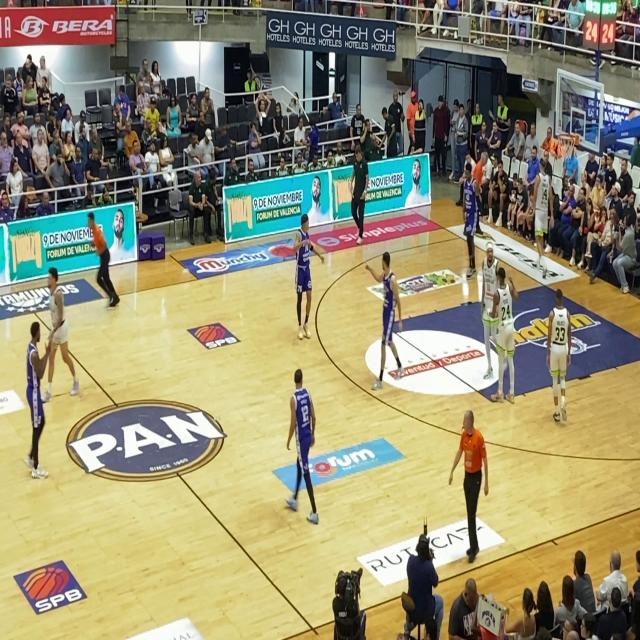referee: (448, 402, 496, 567)
team1: (482, 254, 524, 433)
team2: (12, 306, 52, 459), (279, 362, 316, 527), (367, 242, 401, 386), (289, 204, 321, 328), (458, 149, 484, 261)
ubasket: (558, 128, 578, 167)
